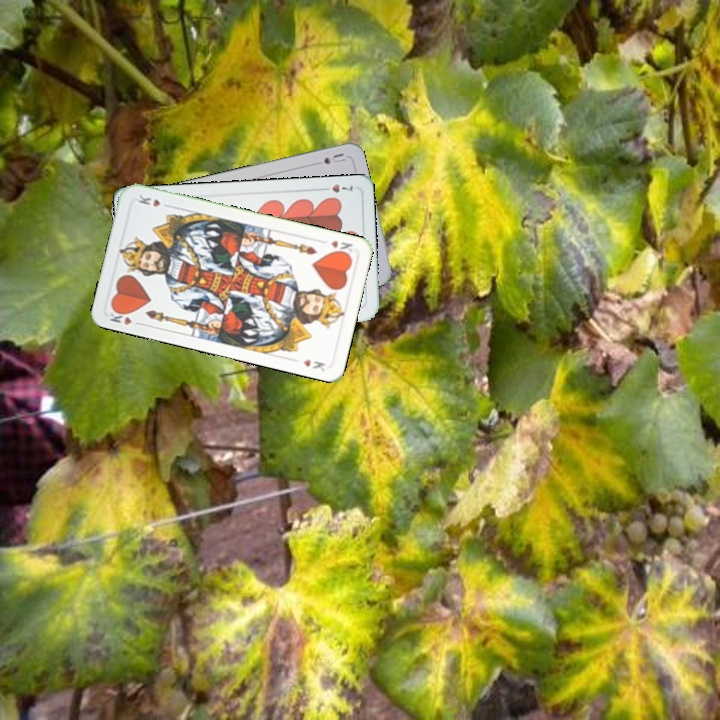H7: (317, 180, 356, 195)
HK: (105, 304, 145, 328), (327, 236, 355, 258)
SU: (308, 149, 348, 168)
